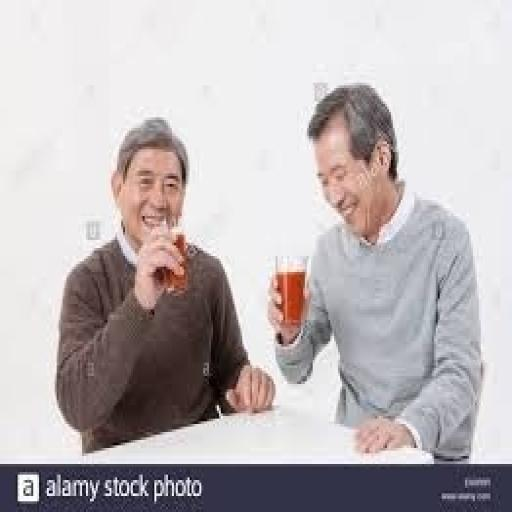drinking: (102, 131, 207, 358), (274, 254, 306, 326)
